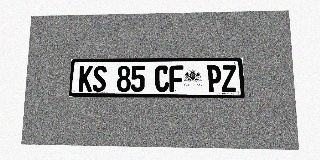5: (131, 65, 145, 92)
8: (117, 66, 131, 92)
C: (155, 65, 169, 92)
F: (169, 65, 183, 92)
K: (78, 66, 93, 92)
P: (206, 65, 222, 92)
S: (92, 66, 107, 92)
Z: (221, 65, 237, 92)
